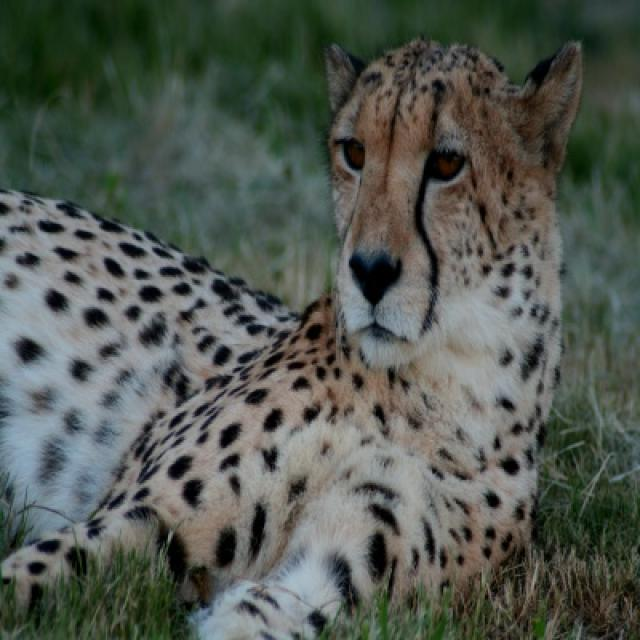Cheetah: (5, 41, 590, 638)
